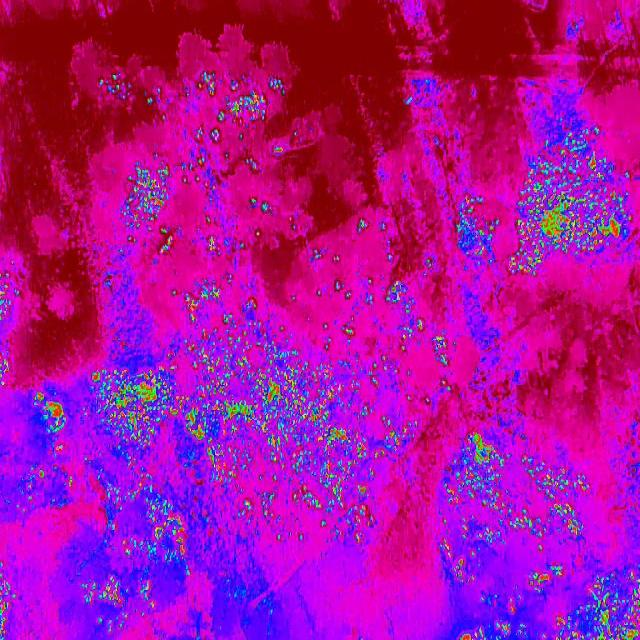fire: (188, 278, 410, 544), (34, 363, 195, 622), (435, 429, 589, 603), (510, 121, 634, 277), (518, 557, 640, 640), (190, 146, 268, 263), (122, 156, 181, 264), (189, 67, 287, 132), (454, 198, 501, 263), (0, 270, 18, 386), (456, 616, 510, 640), (0, 561, 15, 640), (100, 70, 136, 100), (435, 327, 455, 368)
